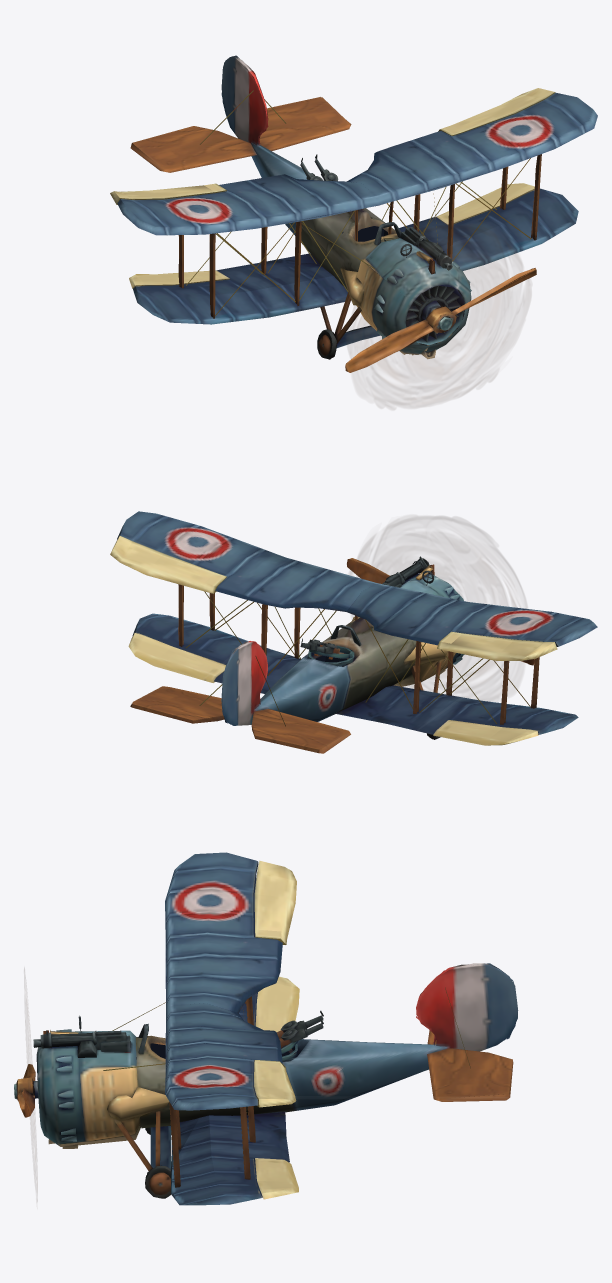
The picture shows the model from 3 angles, top to bottom: view 1: azimuth 30°, elevation 25°; view 2: azimuth 150°, elevation 25°; view 3: azimuth 270°, elevation 25°; orthographic projection. The views are drawn at different scales.
Visible parts, largest first — view 1: body, prop; view 2: body, prop; view 3: body.
Part boxes in pixels (x1,y1,x2,y2): body: (110,55,597,372); prop: (349,226,530,407); body: (110,511,597,753); prop: (350,516,523,701); body: (14,852,518,1205).
Bounding box in the file's own units: 1.36 × 0.6268 × 1.34.
Materials: 3 (2 with a texture image).
